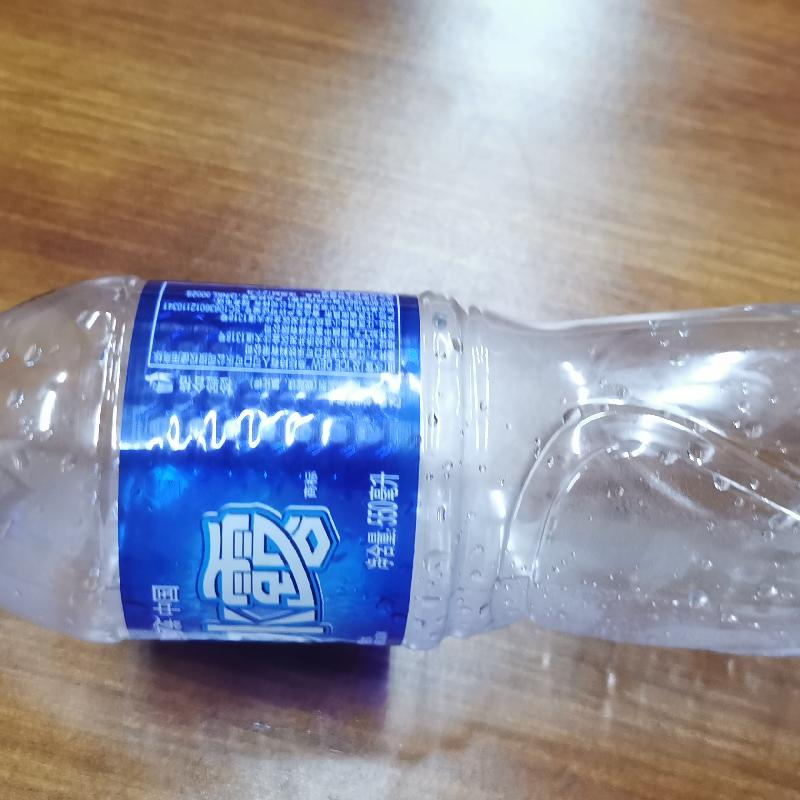bottles: (0, 273, 799, 668)
